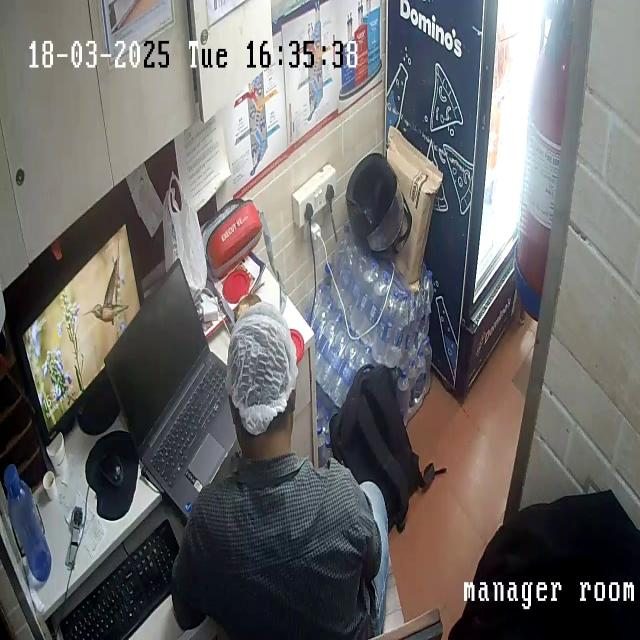helmet: (346, 154, 412, 261)
no_helmet: (226, 298, 299, 459)
